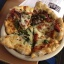pizza: (5, 6, 58, 55)
